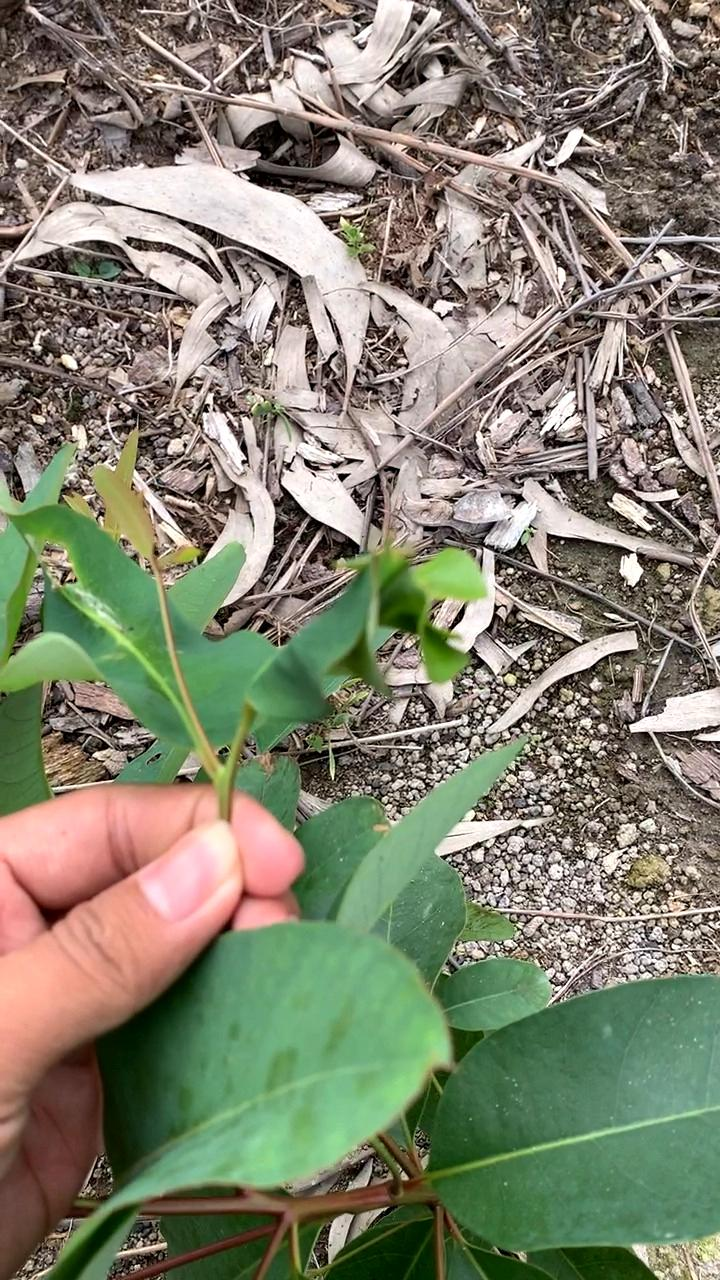Leaf Roller - Leaf: (251, 533, 503, 748)
